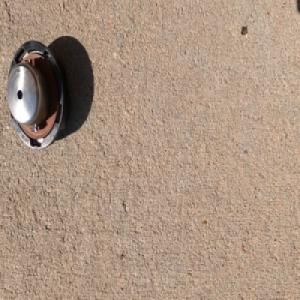FuelCap: (4, 36, 69, 152)
